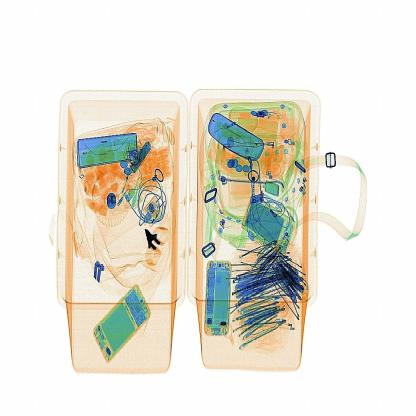gun: (139, 224, 177, 273)
